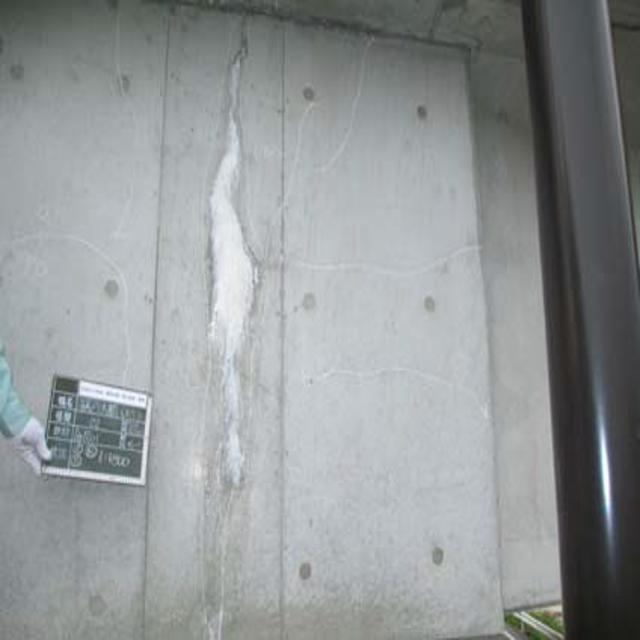freelime: (194, 43, 270, 491)
